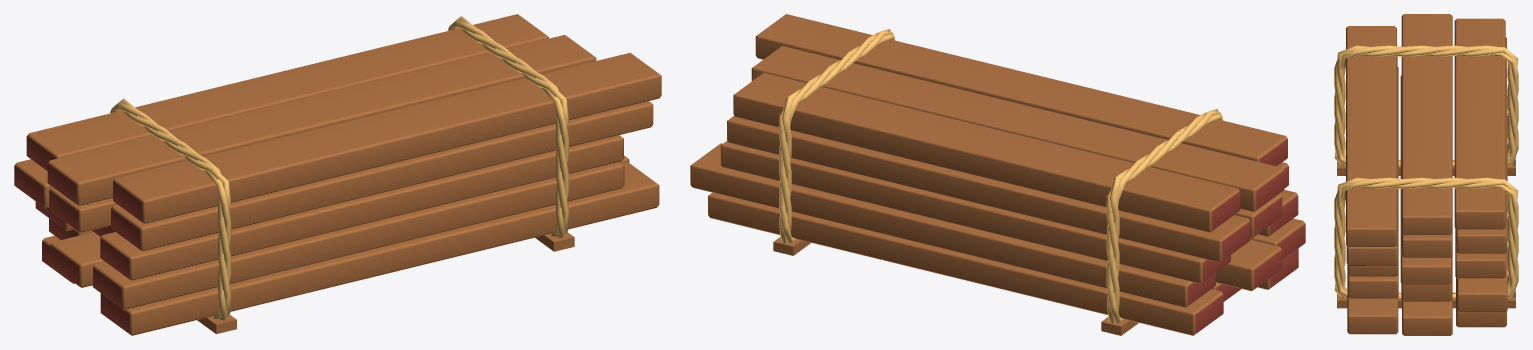
Rendered from prop.plank-stack.glb.
3 views of the same model, side by side, from view 1: azimuth 30°, elevation 25°; view 2: azimuth 150°, elevation 25°; view 3: azimuth 270°, elevation 25° (orthographic). The views are drawn at different scales.
Parts seen in each view (by area): view 1: body, object 2; view 2: body, object 2; view 3: body, object 2.
Part boxes in pixels (<box>): body: <box>14,14,661,335</box>; object 2: <box>14,16,568,333</box>; body: <box>690,14,1305,335</box>; object 2: <box>779,29,1305,333</box>; body: <box>1337,14,1515,335</box>; object 2: <box>1334,45,1518,298</box>.
Bounding box in the file's own units: 2.68 × 0.7282 × 0.9681.
